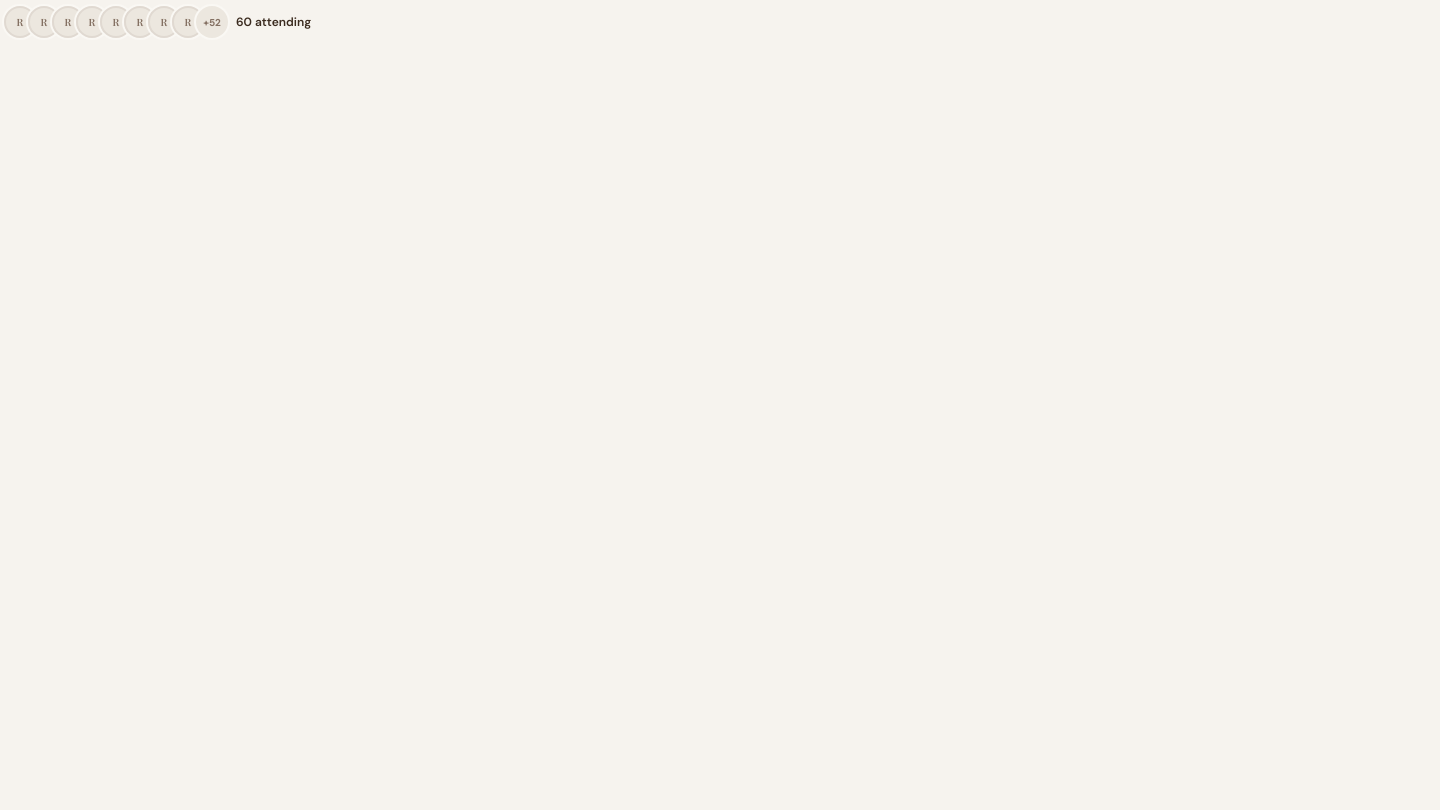
Test case: AttendeeFacePile › opens a dialog and shows the paginated list with a search box for large lists
The width and height of the screenshot is (1440, 810).
Later steps or results of the test are not shown.
Click the button with aria-label "view 60 attending" at point(162, 22), box [0,0,323,44]
(page scrolled)
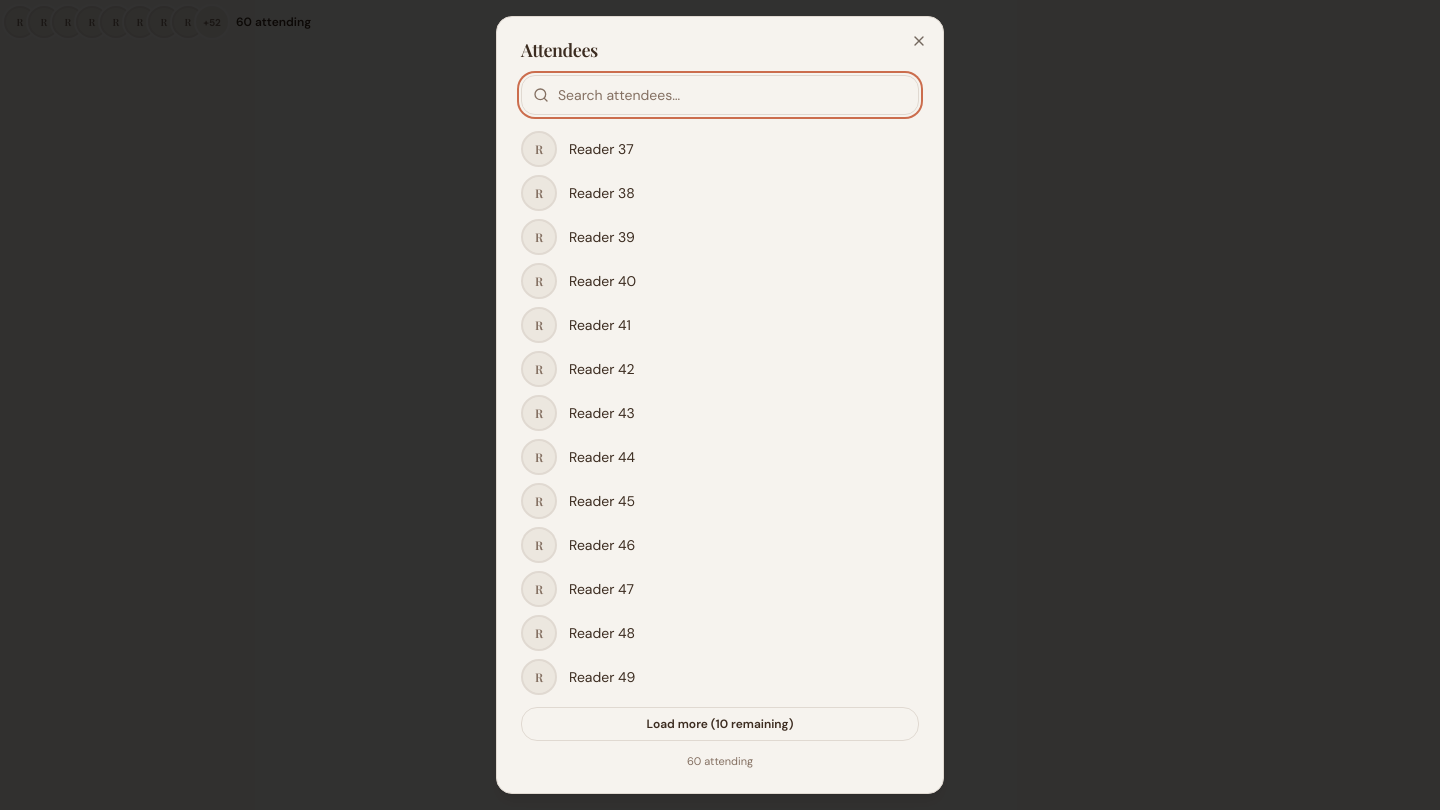
Expected: the field labelled "Search attendees…" is shown, [521,75,919,115]
